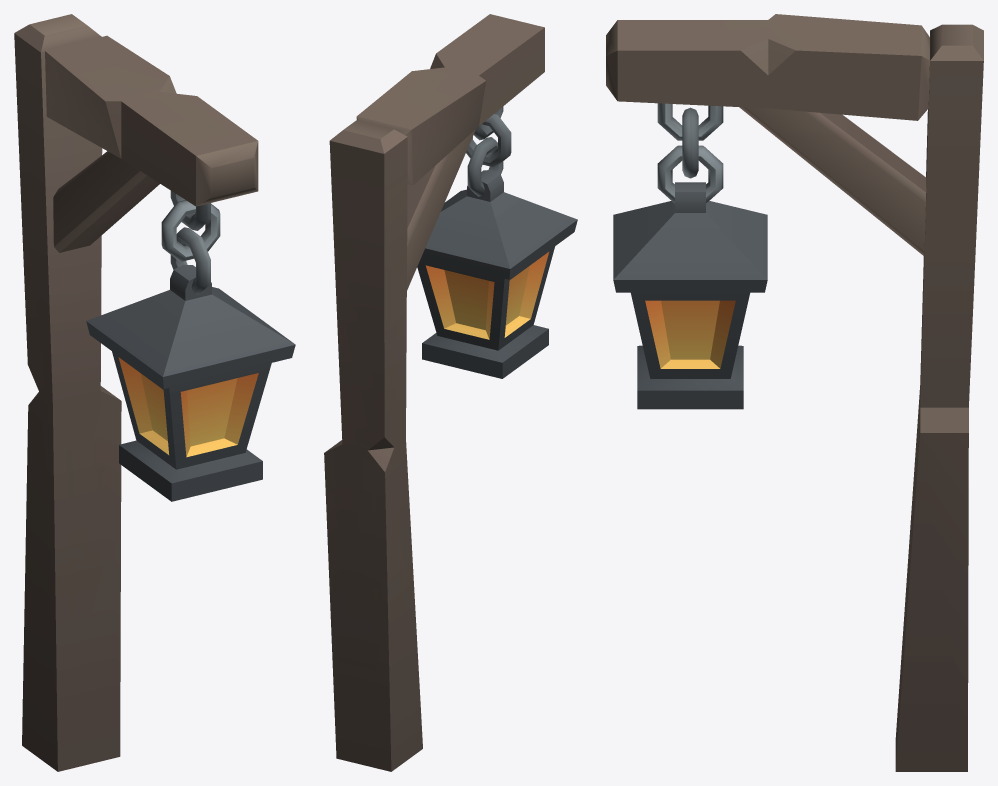
Rendered from post_lantern.gltf.
3 renders of one model, left to right at view 1: azimuth 30°, elevation 25°; view 2: azimuth 150°, elevation 25°; view 3: azimuth 270°, elevation 25°, orthographic. The views are drawn at different scales.
Visible parts, largest first — view 1: post_lantern, post_lantern_lantern; view 2: post_lantern, post_lantern_lantern; view 3: post_lantern, post_lantern_lantern.
Part boxes in pixels (bbox=[...]): post_lantern: bbox=[14, 14, 258, 771]; post_lantern_lantern: bbox=[86, 191, 295, 501]; post_lantern: bbox=[324, 14, 544, 771]; post_lantern_lantern: bbox=[417, 106, 577, 378]; post_lantern: bbox=[606, 14, 983, 771]; post_lantern_lantern: bbox=[613, 103, 767, 409].
Bounding box in the file's own units: 0.64 × 3.3 × 1.57.
1 material, 1 textured.
